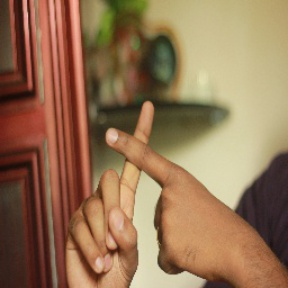X: (80, 86, 202, 229)
